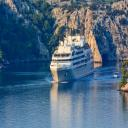cruises: (50, 28, 98, 84)
